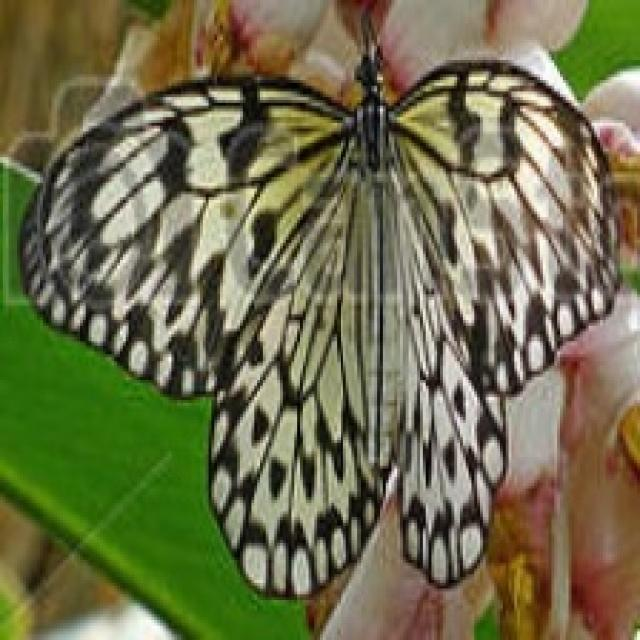butterfly: (14, 6, 623, 603)
